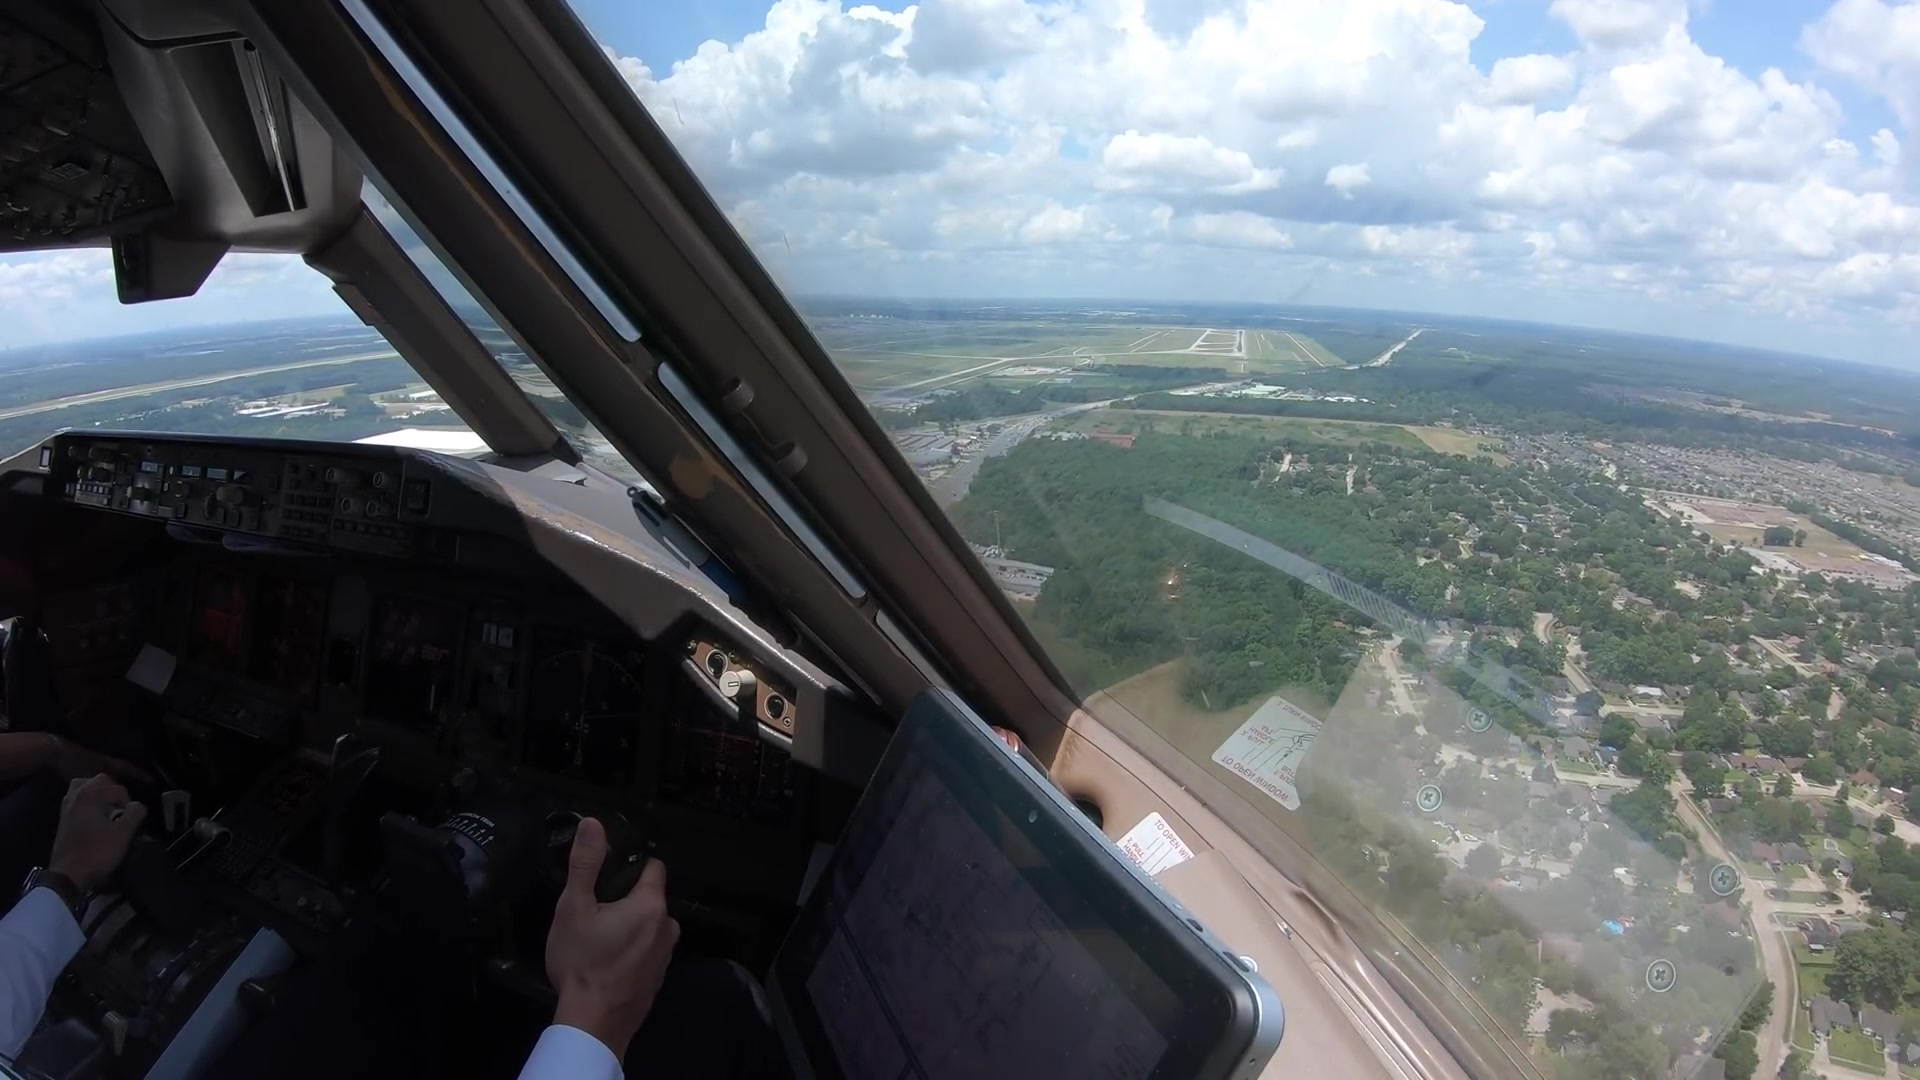runway: (1230, 328, 1247, 356)
